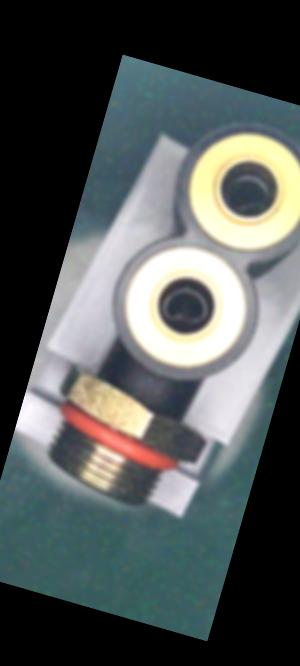joint line: (141, 372, 155, 392)
off-centered: (211, 165, 280, 225), (154, 279, 219, 335)
